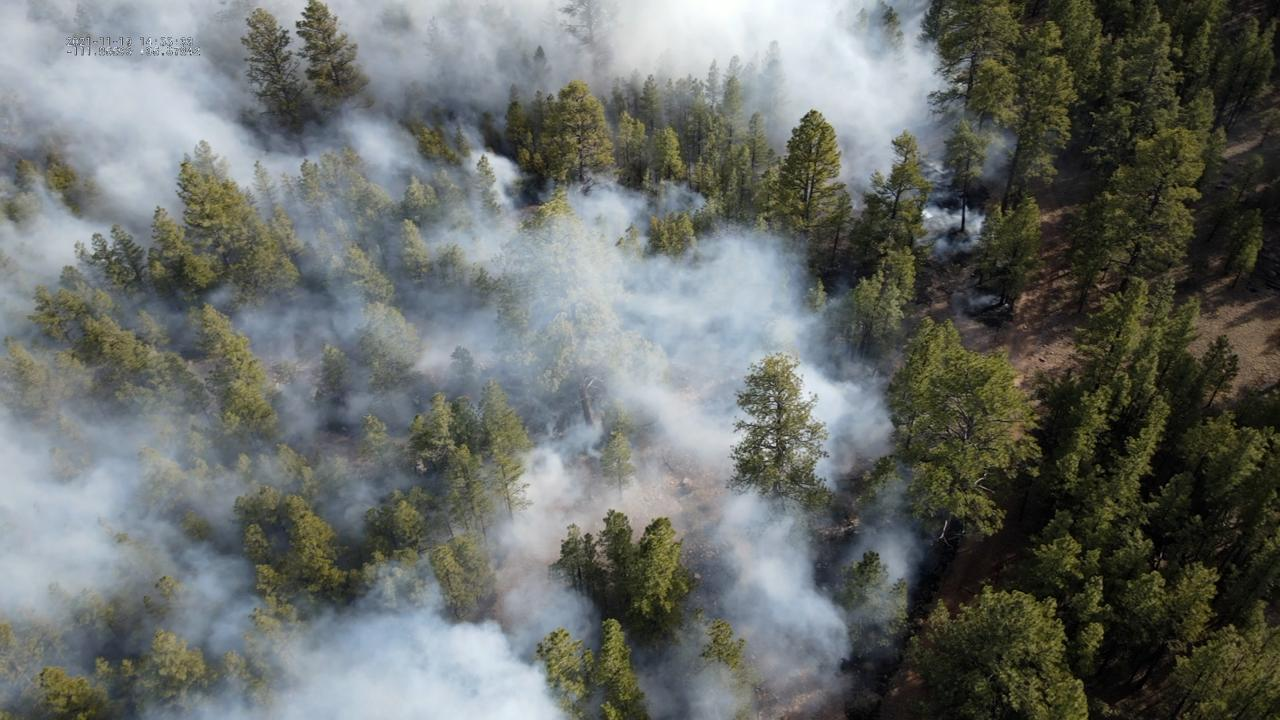smoke: (0, 0, 1017, 720)
